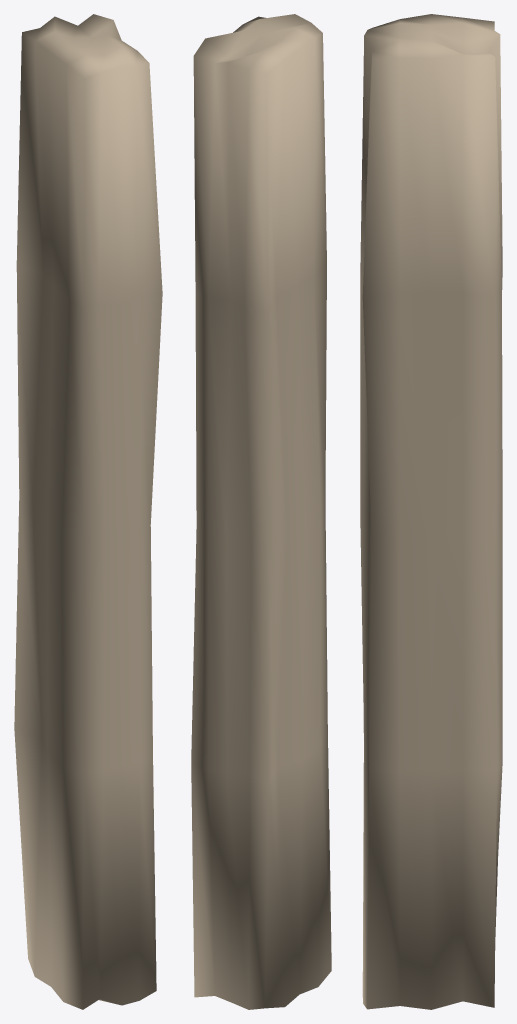
Rendered from rock_monolith_medium.glb.
3 renders of one model, left to right at view 1: azimuth 30°, elevation 25°; view 2: azimuth 150°, elevation 25°; view 3: azimuth 270°, elevation 25°, orthographic. The views are drawn at different scales.
Parts seen in each view (by area): view 1: RockMonolith_medium; view 2: RockMonolith_medium; view 3: RockMonolith_medium.
Boxes of the visible parts, x1=… form: RockMonolith_medium: x1=14, y1=14, x2=162, y2=1009; RockMonolith_medium: x1=191, y1=14, x2=331, y2=1009; RockMonolith_medium: x1=360, y1=14, x2=502, y2=1009.
Bounding box in the file's own units: 48 × 508 × 68.
